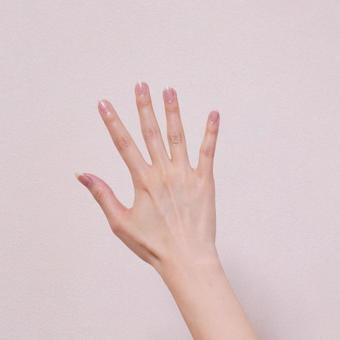pa-: (74, 80, 221, 258)
